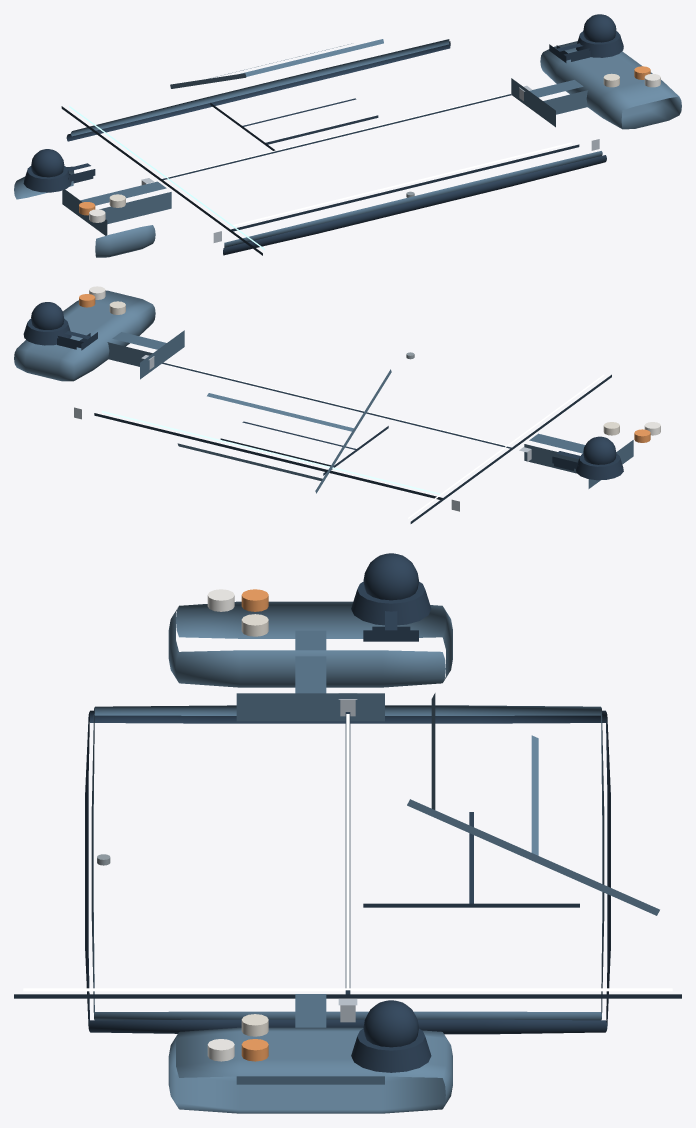
File: model-hybrid-05.glb
The picture shows the model from 3 angles, top to bottom: view 1: azimuth 30°, elevation 25°; view 2: azimuth 150°, elevation 25°; view 3: azimuth 270°, elevation 25°; orthographic projection. The views are drawn at different scales.
Visible parts, largest first — view 1: 手柄右外壳, 平板本体, 平板边框, 平板屏幕, 手柄左连接臂, 手柄右连接臂, 平板屏幕辉光, 手柄左外壳, 支撑脚, 手柄左摇杆座, 后盖散热, 手柄右摇杆帽 (+3 smaller); view 2: 手柄右外壳, 平板屏幕, 手柄右连接臂, 平板屏幕辉光, 支撑脚, 手柄左连接臂, 手柄左摇杆座, 手柄左摇杆帽, 手柄右摇杆帽, 手柄右摇杆座, 后盖散热, 手柄右十字键; view 3: 手柄右外壳, 手柄左外壳, 平板本体, 平板边框, 手柄左连接臂, 平板屏幕, 平板屏幕辉光, 支撑脚, 手柄右连接臂, 手柄右摇杆座, 手柄左摇杆帽, 手柄右摇杆帽 (+3 smaller).
Part boxes in pixels (x1,y1,x2,y2): 手柄右外壳: (540, 41, 681, 129); 平板本体: (66, 41, 606, 255); 平板边框: (71, 39, 602, 247); 平板屏幕: (61, 94, 579, 255); 手柄左连接臂: (62, 181, 171, 235); 手柄右连接臂: (511, 78, 588, 127); 平板屏幕辉光: (69, 94, 571, 250); 手柄左外壳: (14, 166, 155, 257); 支撑脚: (170, 39, 383, 88); 手柄左摇杆座: (23, 166, 71, 192); 后盖散热: (210, 98, 378, 150); 手柄右摇杆帽: (583, 14, 616, 42); 手柄右外壳: (14, 290, 155, 381); 平板屏幕: (94, 362, 611, 523); 手柄右连接臂: (107, 330, 184, 379); 平板屏幕辉光: (102, 363, 604, 518); 支撑脚: (177, 369, 391, 493); 手柄左连接臂: (524, 433, 633, 488); 手柄左摇杆座: (576, 453, 623, 480); 手柄左摇杆帽: (583, 436, 616, 464); 手柄右摇杆帽: (31, 302, 64, 329); 手柄右摇杆座: (23, 318, 71, 345); 后盖散热: (220, 421, 388, 475); 手柄右十字键: (57, 331, 97, 350); 手柄右外壳: (168, 1027, 452, 1113); 手柄左外壳: (168, 601, 452, 687); 平板本体: (85, 710, 610, 1034); 平板边框: (91, 705, 604, 1020); 手柄左连接臂: (236, 630, 384, 721); 平板屏幕: (14, 712, 681, 998); 平板屏幕辉光: (23, 714, 672, 991); 支撑脚: (407, 693, 659, 915); 手柄右连接臂: (236, 994, 384, 1084); 手柄右摇杆座: (351, 1028, 431, 1072); 手柄左摇杆帽: (363, 553, 418, 600); 手柄右摇杆帽: (363, 1000, 418, 1047).
Bounding box in the file's own units: 0.368 × 0.0509 × 0.216.
